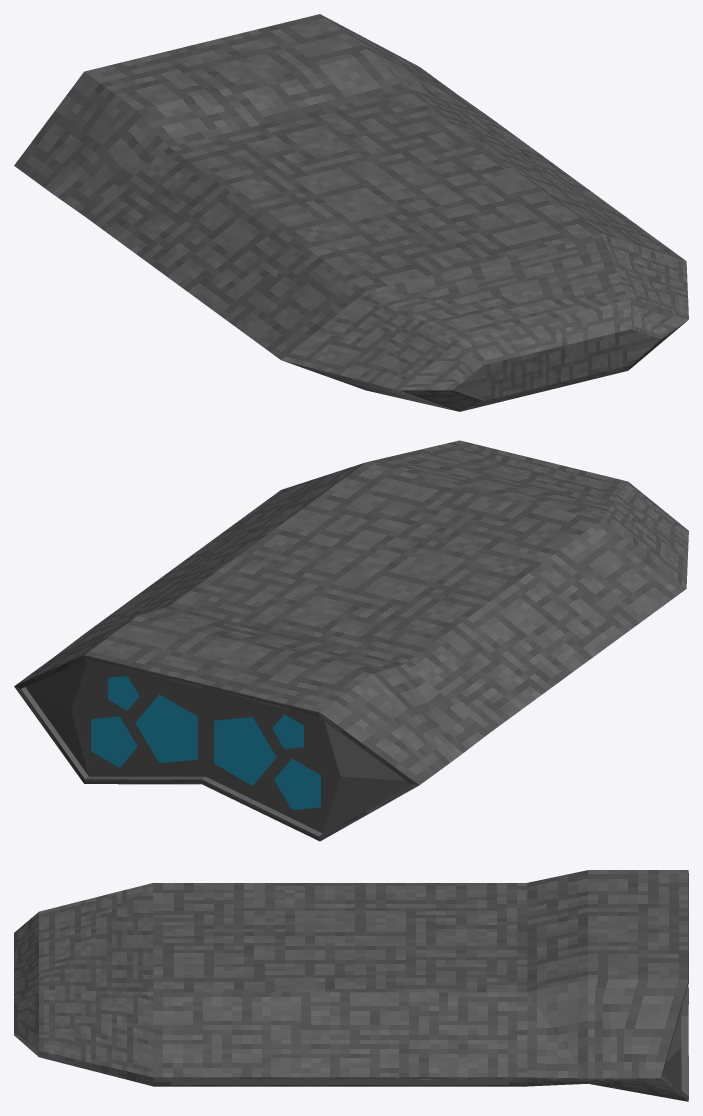
The model's file is carrier.obj.
3 views of the same model, one above another, from view 1: azimuth 30°, elevation 25°; view 2: azimuth 150°, elevation 25°; view 3: azimuth 270°, elevation 25° (orthographic). The views are drawn at different scales.
Visible parts, largest first — view 1: Cube.001_Cube.000; view 2: Cube.001_Cube.000; view 3: Cube.001_Cube.000.
Part boxes in pixels (<box>): Cube.001_Cube.000: <box>14,14,688,411</box>; Cube.001_Cube.000: <box>14,440,688,841</box>; Cube.001_Cube.000: <box>14,870,688,1101</box>.
Size of the model in its own units: 4.14 by 1.26 by 6.28.
Materials: 1 (1 with a texture image).
